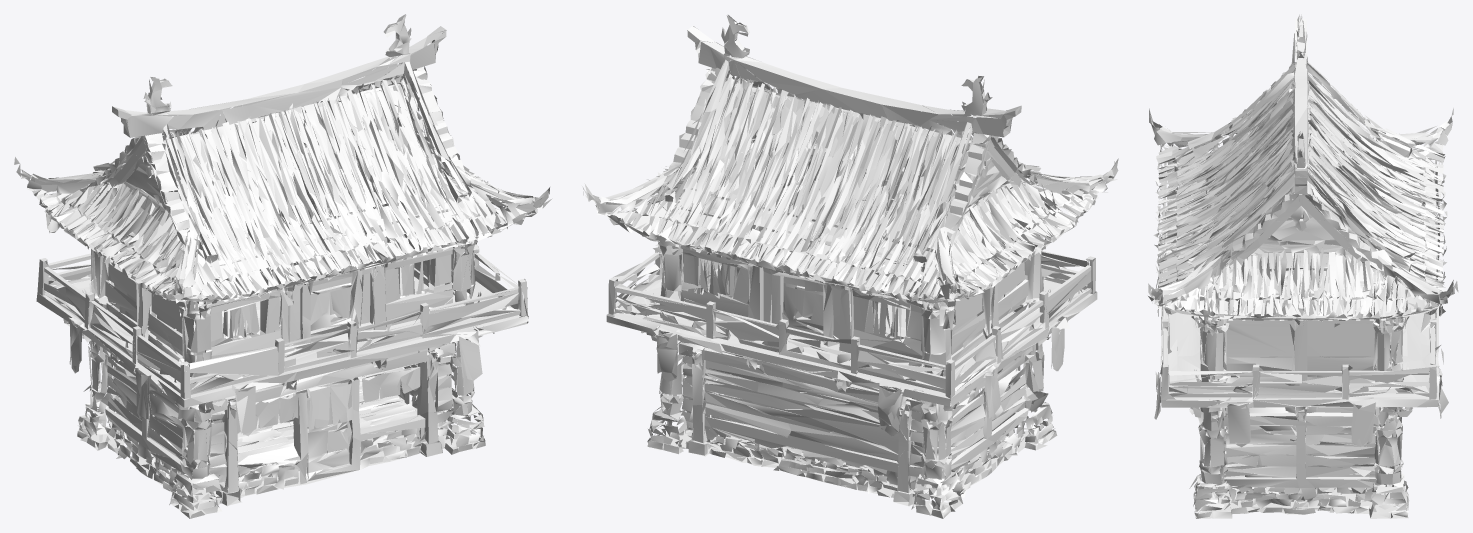
File: house_bal_a_lod1.glb
3 views of the same model, side by side, from view 1: azimuth 30°, elevation 25°; view 2: azimuth 150°, elevation 25°; view 3: azimuth 270°, elevation 25° (orthographic). The views are drawn at different scales.
Parts seen in each view (by area): view 1: house_bal_a; view 2: house_bal_a; view 3: house_bal_a.
Boxes of the visible parts, box(x1,y1,x2,y2) form: house_bal_a: box(14, 14, 552, 518); house_bal_a: box(582, 15, 1118, 518); house_bal_a: box(1148, 14, 1458, 518).
Size of the model in its own units: 8.44 by 8.6 by 6.36.
Materials: 1 (1 with a texture image).
